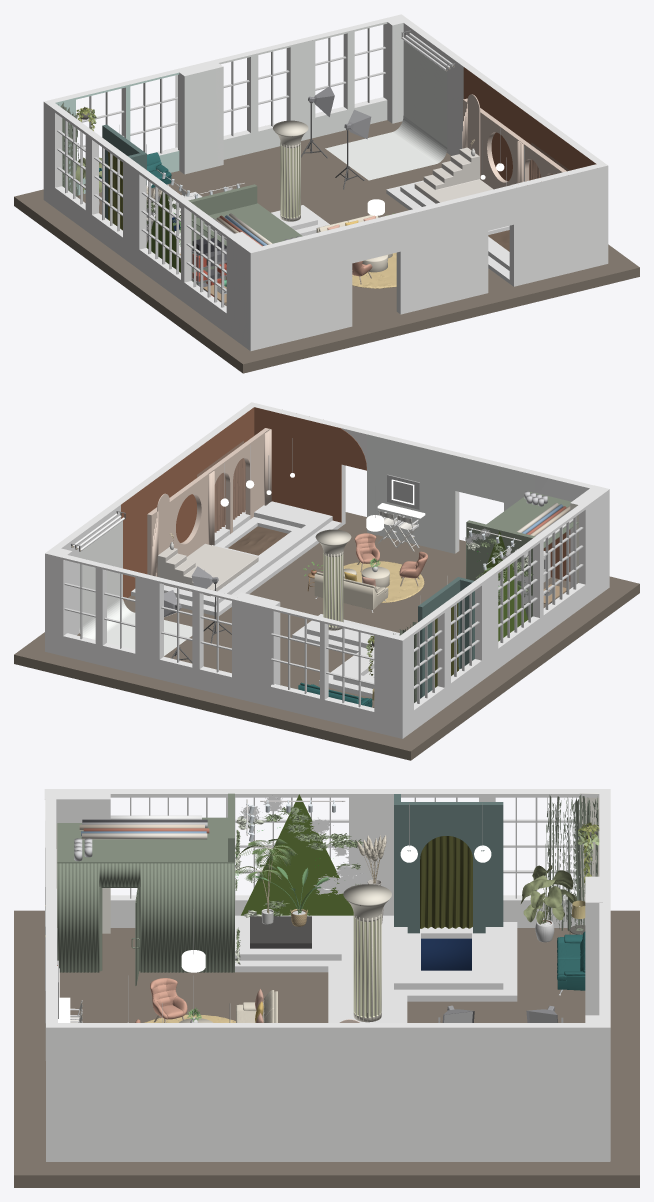
The model's file is etherea-mobile.glb.
The picture shows the model from 3 angles, top to bottom: view 1: azimuth 30°, elevation 25°; view 2: azimuth 150°, elevation 25°; view 3: azimuth 270°, elevation 25°; orthographic projection. The views are drawn at different scales.
Visible parts, largest first — view 1: Cube, Wall_j0slUw0ESQaHlxl3I12E8Q, Cube.062, Cube.001, Studio+BG_izNCRPySQSW3zbnGWBsGWA, Wall_ryM7yGxfT5SOGcNczaVzYQ, Wall_cM6Y5bnYQj6PNu9bwilUNQ, Wall__qiu8B87SZqla0gIePVqBA, Cube.042, New Desert Wall, Stage stairs and landing, Wall_jZbsUVY6RGCNpejMW_G57A (+26 smaller); view 2: Cube, Wall_j0slUw0ESQaHlxl3I12E8Q, Wall_ryM7yGxfT5SOGcNczaVzYQ, Cube.001, Cube.002, Wall_tC4apbOfSQGxfDBpBDDVlA, New Desert Wall, Studio+BG_izNCRPySQSW3zbnGWBsGWA, Cube.042, New Step 2, Wall_xexoBvuBSq6ge_mbJKC2-Q, Stage stairs and landing (+31 smaller); view 3: Cube.001, Cube, Office cladding, Cube.061, Wall_iNl4Zh0ATr2gGKpswnzd6w, Furniture_BY4Y0_DlRIqQSFE0mL3oGA, Cube.063, Office lid, Pool arch curtain, Cube.041, Furniture_3Rr4xGx_T6Wha_DX7qum0g, Cube.038 (+21 smaller).
Boxes of the visible parts, <box> form: Cube: <box>14,120,639,373</box>; Wall_j0slUw0ESQaHlxl3I12E8Q: <box>317,192,488,333</box>; Cube.062: <box>509,162,607,286</box>; Cube.001: <box>395,14,608,263</box>; Studio+BG_izNCRPySQSW3zbnGWBsGWA: <box>325,40,447,180</box>; Wall_ryM7yGxfT5SOGcNczaVzYQ: <box>211,18,388,159</box>; Wall_cM6Y5bnYQj6PNu9bwilUNQ: <box>262,233,321,347</box>; Wall__qiu8B87SZqla0gIePVqBA: <box>178,62,223,174</box>; Cube.042: <box>55,186,226,333</box>; New Desert Wall: <box>463,98,566,189</box>; Stage stairs and landing: <box>414,147,493,203</box>; Wall_jZbsUVY6RGCNpejMW_G57A: <box>228,236,256,350</box>; Cube: <box>14,512,639,760</box>; Wall_j0slUw0ESQaHlxl3I12E8Q: <box>367,431,538,553</box>; Wall_ryM7yGxfT5SOGcNczaVzYQ: <box>59,555,237,697</box>; Cube.001: <box>45,405,254,635</box>; Cube.002: <box>254,407,366,522</box>; Wall_tC4apbOfSQGxfDBpBDDVlA: <box>267,605,402,738</box>; New Desert Wall: <box>147,428,269,576</box>; Studio+BG_izNCRPySQSW3zbnGWBsGWA: <box>79,521,192,655</box>; Cube.042: <box>414,583,587,730</box>; New Step 2: <box>164,501,332,606</box>; Wall_xexoBvuBSq6ge_mbJKC2-Q: <box>235,598,269,705</box>; Stage stairs and landing: <box>157,543,258,596</box>; Cube.001: <box>46,1023,609,1161</box>; Cube: <box>14,910,639,1187</box>; Office cladding: <box>57,863,234,972</box>; Cube.061: <box>235,915,503,1022</box>; Wall_iNl4Zh0ATr2gGKpswnzd6w: <box>394,802,503,933</box>; Furniture_BY4Y0_DlRIqQSFE0mL3oGA: <box>236,794,369,917</box>; Cube.063: <box>235,922,517,1022</box>; Office lid: <box>57,817,234,863</box>; Pool arch curtain: <box>420,836,472,928</box>; Cube.041: <box>110,789,599,797</box>; Furniture_3Rr4xGx_T6Wha_DX7qum0g: <box>545,794,598,930</box>; Cube.038: <box>349,789,393,900</box>.
Bounding box in the file's own units: 13.55 × 3.64 × 13.55.
